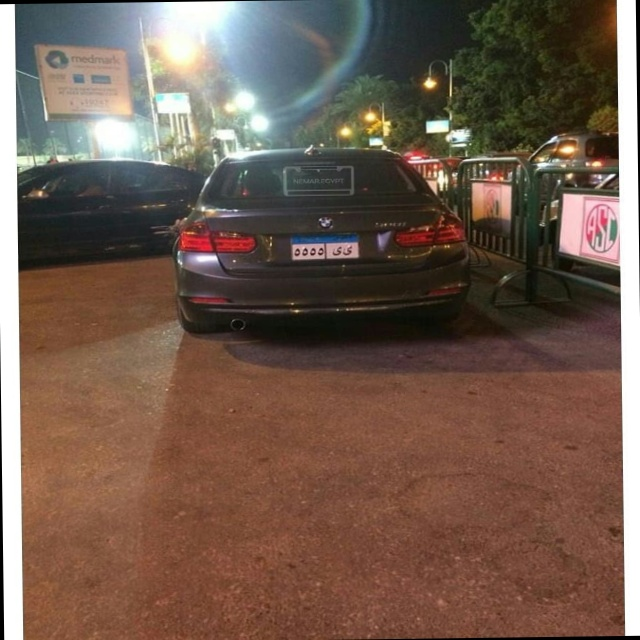License Plate: (289, 232, 362, 262)
